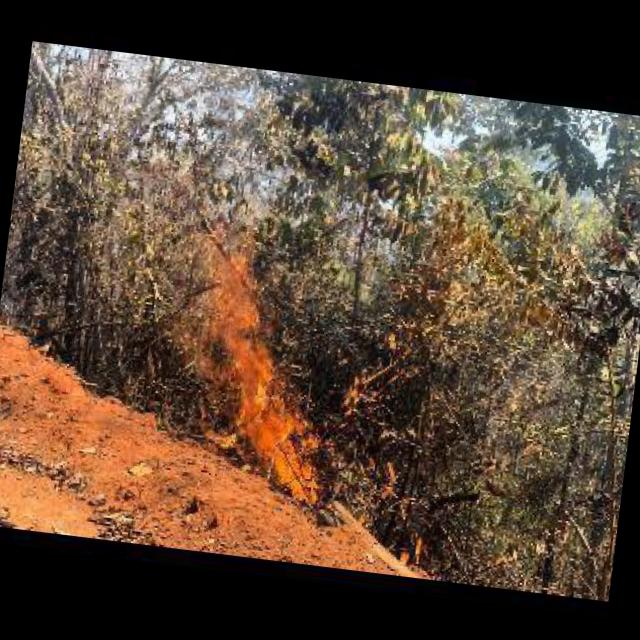fire: (178, 248, 356, 506)
